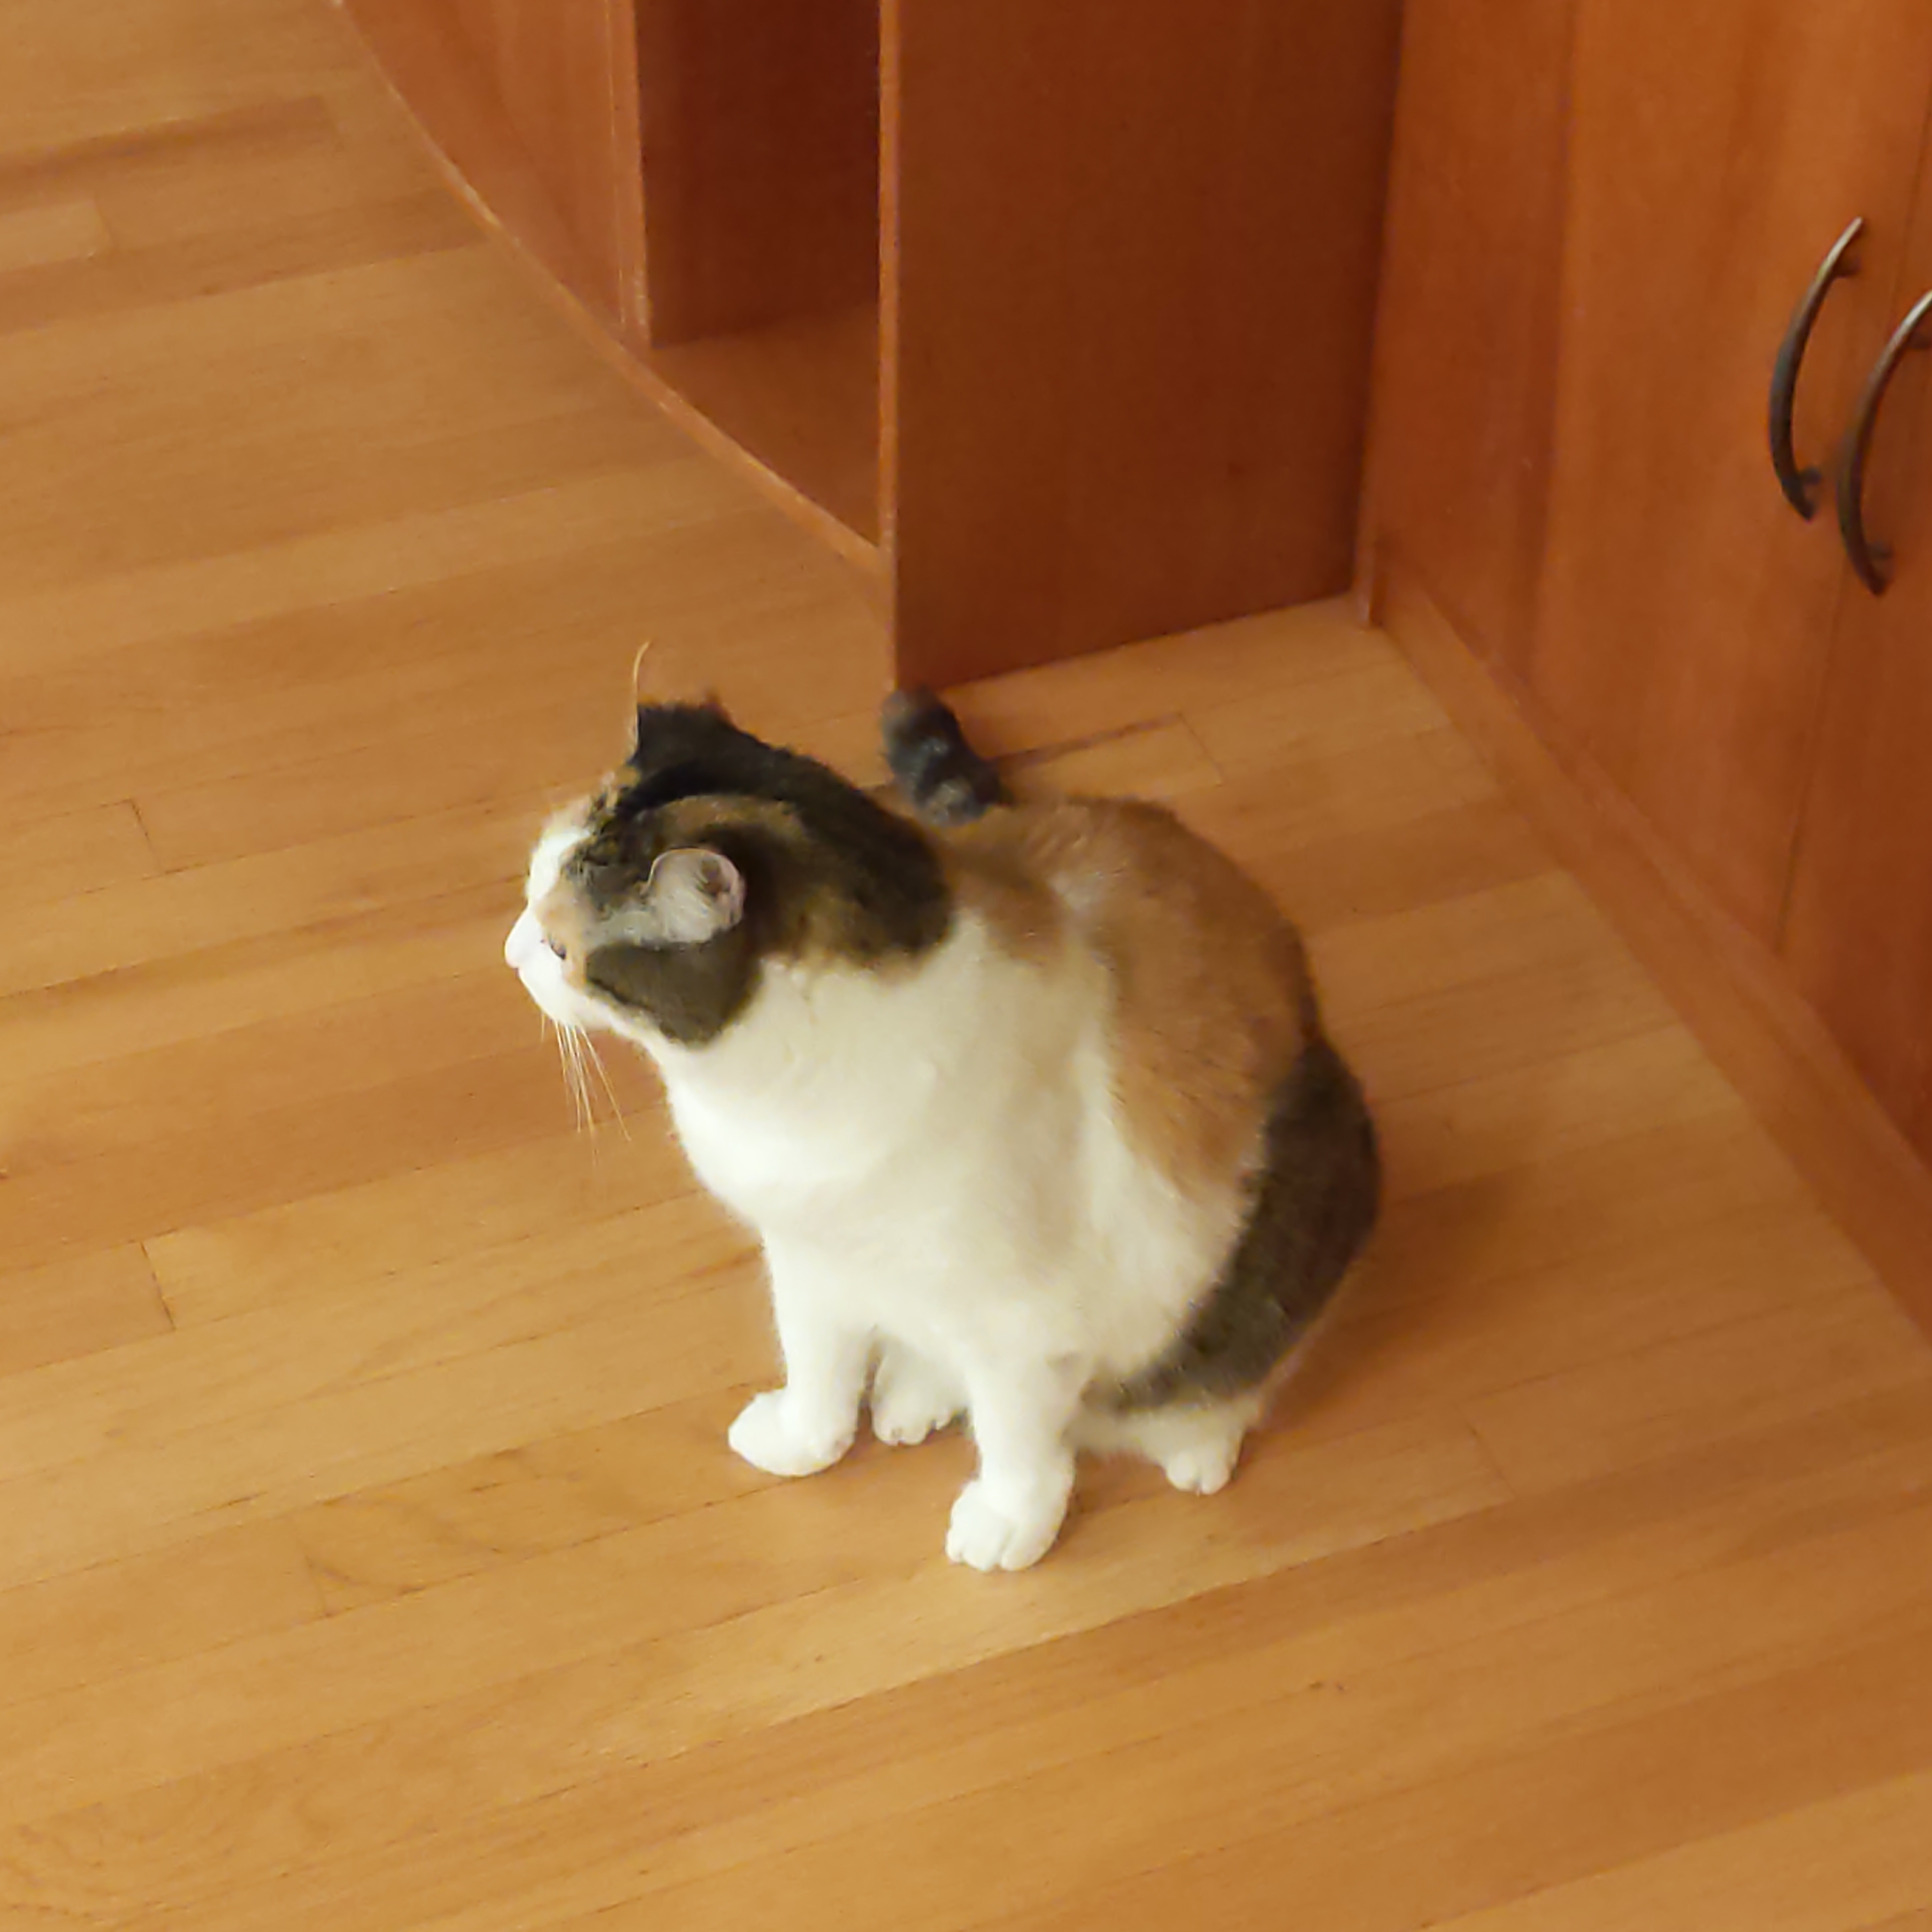Calico: (504, 639, 1389, 1575)
